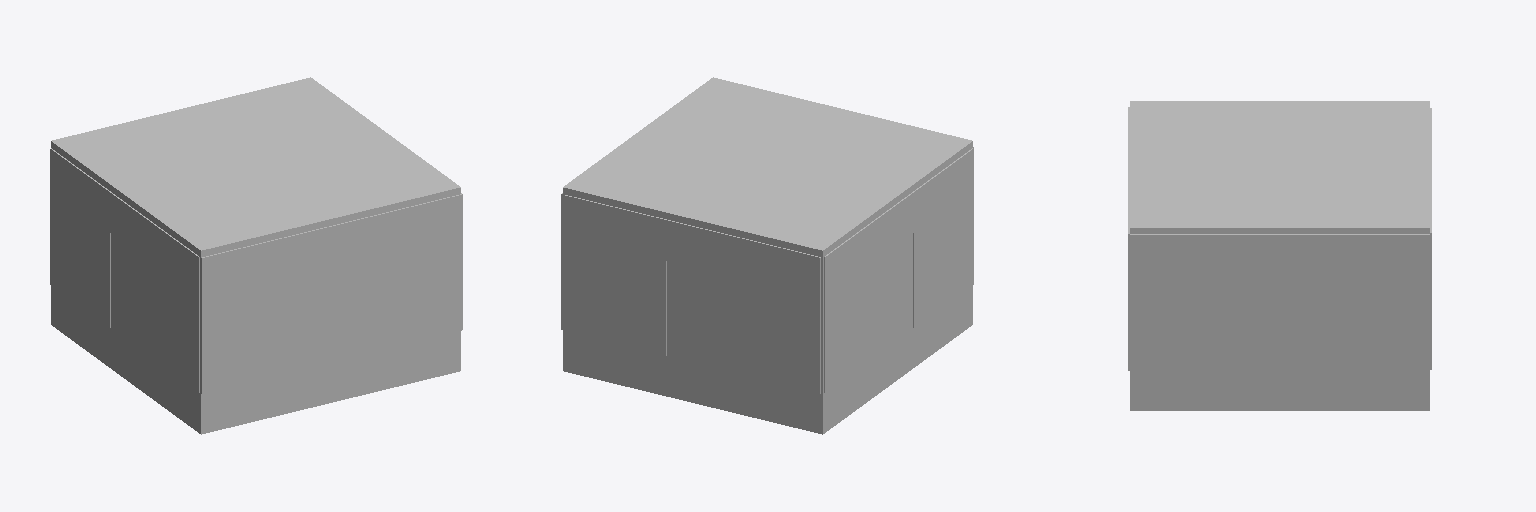
Rendered from 1x1_hotel_room_bend_neg_x_neg_z.obj.
3 renders of one model, left to right at view 1: azimuth 30°, elevation 25°; view 2: azimuth 150°, elevation 25°; view 3: azimuth 270°, elevation 25°, orthographic.
Visible parts, largest first — view 1: UCX_1x1_hotel_room_bend_neg_x_neg_z_09, UCX_1x1_hotel_room_bend_neg_x_neg_z_01, UCX_1x1_hotel_room_bend_neg_x_neg_z_00, UCX_1x1_hotel_room_bend_neg_x_neg_z_03, UCX_1x1_hotel_room_bend_neg_x_neg_z_02, 1x1_hotel_room_bend_neg_x_neg_z, UCX_1x1_hotel_room_bend_neg_x_neg_z_04; view 2: UCX_1x1_hotel_room_bend_neg_x_neg_z_09, UCX_1x1_hotel_room_bend_neg_x_neg_z_00, UCX_1x1_hotel_room_bend_neg_x_neg_z_06, UCX_1x1_hotel_room_bend_neg_x_neg_z_05, 1x1_hotel_room_bend_neg_x_neg_z, UCX_1x1_hotel_room_bend_neg_x_neg_z_02, UCX_1x1_hotel_room_bend_neg_x_neg_z_03, UCX_1x1_hotel_room_bend_neg_x_neg_z_07, UCX_1x1_hotel_room_bend_neg_x_neg_z_04; view 3: UCX_1x1_hotel_room_bend_neg_x_neg_z_08, UCX_1x1_hotel_room_bend_neg_x_neg_z_09, UCX_1x1_hotel_room_bend_neg_x_neg_z_00, UCX_1x1_hotel_room_bend_neg_x_neg_z_01.
Boxes of the visible parts, x1,y1,x2,y2 form: UCX_1x1_hotel_room_bend_neg_x_neg_z_09: [51, 77, 460, 256]; UCX_1x1_hotel_room_bend_neg_x_neg_z_01: [200, 194, 461, 393]; UCX_1x1_hotel_room_bend_neg_x_neg_z_00: [51, 286, 460, 434]; UCX_1x1_hotel_room_bend_neg_x_neg_z_03: [50, 148, 110, 327]; UCX_1x1_hotel_room_bend_neg_x_neg_z_02: [140, 214, 199, 392]; 1x1_hotel_room_bend_neg_x_neg_z: [51, 147, 460, 394]; UCX_1x1_hotel_room_bend_neg_x_neg_z_04: [110, 192, 140, 254]; UCX_1x1_hotel_room_bend_neg_x_neg_z_09: [563, 77, 972, 258]; UCX_1x1_hotel_room_bend_neg_x_neg_z_00: [563, 286, 972, 434]; UCX_1x1_hotel_room_bend_neg_x_neg_z_06: [718, 232, 820, 393]; UCX_1x1_hotel_room_bend_neg_x_neg_z_05: [564, 195, 666, 355]; 1x1_hotel_room_bend_neg_x_neg_z: [563, 147, 972, 394]; UCX_1x1_hotel_room_bend_neg_x_neg_z_02: [913, 148, 973, 327]; UCX_1x1_hotel_room_bend_neg_x_neg_z_03: [824, 214, 883, 392]; UCX_1x1_hotel_room_bend_neg_x_neg_z_07: [666, 220, 718, 272]; UCX_1x1_hotel_room_bend_neg_x_neg_z_04: [883, 192, 913, 254]; UCX_1x1_hotel_room_bend_neg_x_neg_z_08: [1130, 234, 1429, 370]; UCX_1x1_hotel_room_bend_neg_x_neg_z_09: [1130, 101, 1429, 233]; UCX_1x1_hotel_room_bend_neg_x_neg_z_00: [1130, 371, 1429, 410]; UCX_1x1_hotel_room_bend_neg_x_neg_z_01: [1128, 107, 1129, 370].
Bounding box in the file's own units: 20.2 × 13.5 × 20.2.